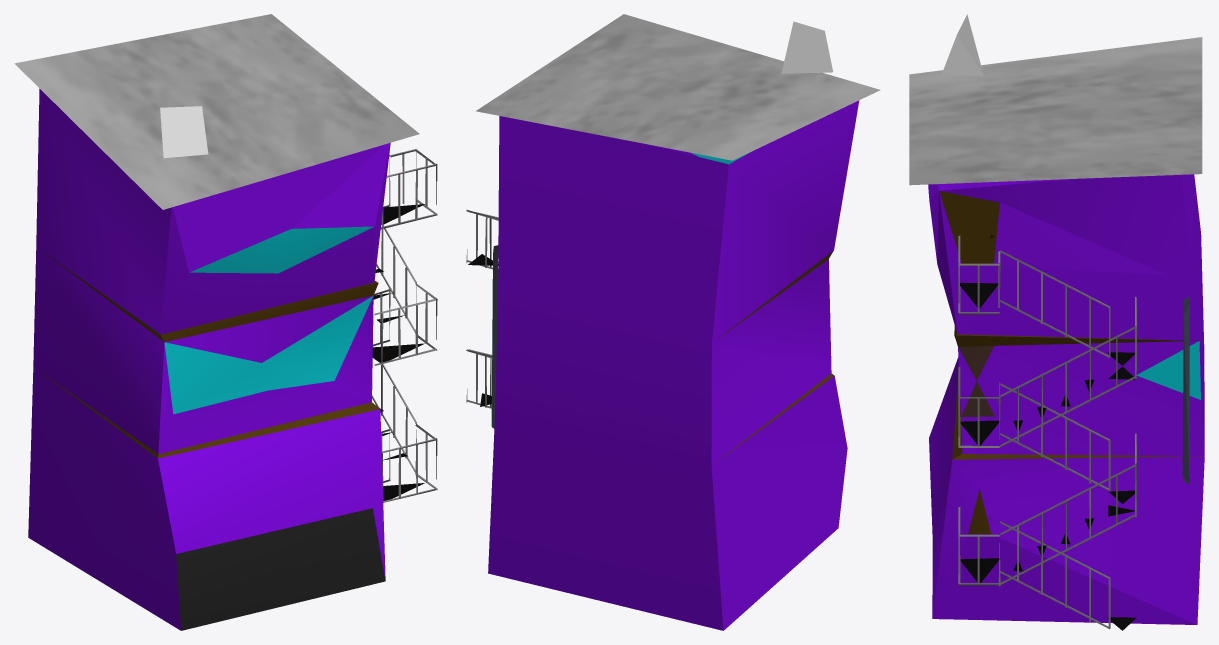
File: PredioTorto-RoxoLOD2.fbx
The picture shows the model from 3 angles, left to right: view 1: azimuth 30°, elevation 25°; view 2: azimuth 150°, elevation 25°; view 3: azimuth 270°, elevation 25°; orthographic projection.
Parts seen in each view (by area): view 1: Predio3AndaresLOD2; view 2: Predio3AndaresLOD2; view 3: Predio3AndaresLOD2.
Part boxes in pixels (box(x1,y1,x2,y2)): Predio3AndaresLOD2: box(14, 14, 437, 630); Predio3AndaresLOD2: box(466, 14, 880, 630); Predio3AndaresLOD2: box(909, 14, 1204, 630).
Size of the model in its own units: 1025 by 1669 by 885.
